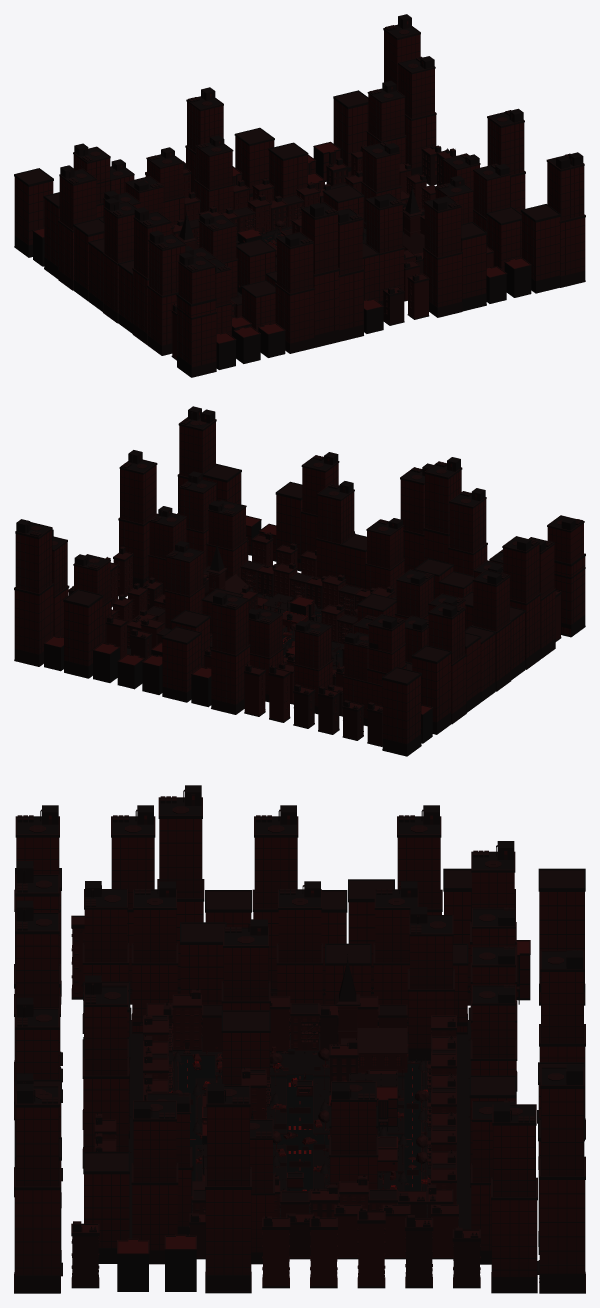
Rendered from cidade.glb.
The picture shows the model from 3 angles, top to bottom: view 1: azimuth 30°, elevation 25°; view 2: azimuth 150°, elevation 25°; view 3: azimuth 270°, elevation 25°; orthographic projection. The views are drawn at different scales.
Visible parts, largest first — view 1: House_02_944, House_02_938, House_02_939, House_02_959, House_02_923, House_02_961, House_02_940, House_02_949, House_02_891, House_02_953, Bank_01_948, House_02_956 (+46 smaller); view 2: House_02_921, House_02_913, House_02_929, Bank_01_950, House_02_958, House_02_956, House_02_891, House_02_938, Bank_01_919, House_02_939, House_02_953, House_02_125-col (+55 smaller); view 3: House_02_921, House_02_929, House_02_949, House_02_923, House_02_891, House_02_882, House_02_86-col, House_02_904, House_02_958, House_02_901, House_02_913, House_02_956 (+66 smaller).
Part boxes in pixels (x1,y1,x2,y2): House_02_944: (423, 196, 462, 317); House_02_938: (275, 232, 315, 353); House_02_939: (301, 202, 339, 347); House_02_959: (147, 230, 186, 355); House_02_923: (398, 56, 436, 175); House_02_961: (177, 252, 216, 377); House_02_940: (337, 208, 364, 341); House_02_949: (548, 155, 585, 287); House_02_891: (365, 193, 404, 304); House_02_953: (58, 165, 96, 290); Bank_01_948: (521, 204, 560, 293); House_02_956: (102, 198, 137, 323); House_02_921: (14, 519, 53, 666); House_02_913: (210, 592, 250, 714); House_02_929: (118, 450, 157, 587); Bank_01_950: (382, 667, 421, 756); House_02_958: (502, 536, 541, 669); House_02_956: (472, 569, 511, 691); House_02_891: (316, 481, 355, 577); House_02_938: (448, 488, 487, 575); Bank_01_919: (63, 589, 103, 678); House_02_939: (423, 457, 462, 563); House_02_953: (428, 602, 466, 724); House_02_125-col: (164, 541, 205, 628); House_02_921: (537, 1064, 585, 1293); House_02_929: (205, 1084, 251, 1293); House_02_949: (14, 1073, 62, 1293); House_02_923: (491, 1104, 537, 1293); House_02_891: (82, 975, 131, 1168); House_02_882: (131, 1100, 178, 1264); House_02_86-col: (407, 907, 456, 1060); House_02_904: (131, 881, 178, 1033); House_02_958: (157, 785, 204, 994); House_02_901: (276, 881, 323, 1033); House_02_913: (537, 950, 585, 1139); House_02_956: (252, 805, 298, 995).
Size of the model in its own units: 186 by 62.48 by 146.
1 material, 1 textured.
